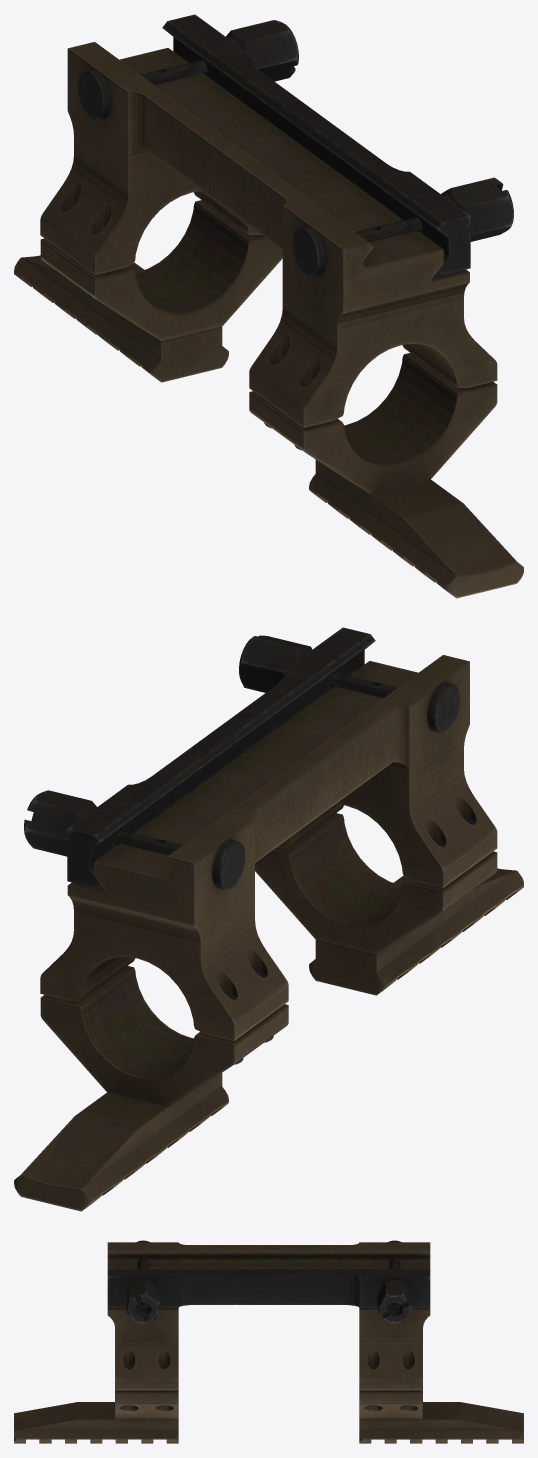
3 renders of one model, top to bottom at view 1: azimuth 30°, elevation 25°; view 2: azimuth 150°, elevation 25°; view 3: azimuth 270°, elevation 25°, orthographic. The views are drawn at different scales.
Parts seen in each view (by area): view 1: TW_6171407e50224f204c1da3c5_PZ_Import; view 2: TW_6171407e50224f204c1da3c5_PZ_Import; view 3: TW_6171407e50224f204c1da3c5_PZ_Import.
Boxes of the visible parts, x1=… form: TW_6171407e50224f204c1da3c5_PZ_Import: x1=14, y1=14, x2=523, y2=598; TW_6171407e50224f204c1da3c5_PZ_Import: x1=14, y1=627, x2=523, y2=1211; TW_6171407e50224f204c1da3c5_PZ_Import: x1=14, y1=1240, x2=523, y2=1443.
Size of the model in its own units: 0.0341 by 0.116 by 0.0443.
1 material, 1 textured.
